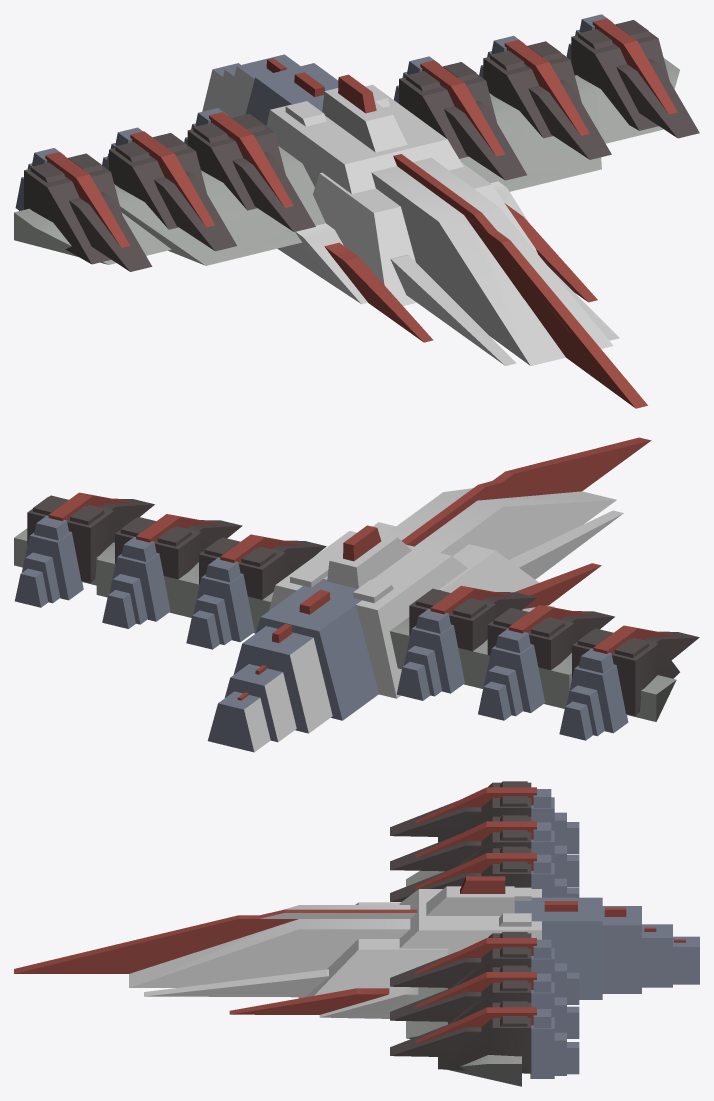
File: Ship_Speed.fbx
3 views of the same model, one above another, from view 1: azimuth 30°, elevation 25°; view 2: azimuth 150°, elevation 25°; view 3: azimuth 270°, elevation 25° (orthographic). The views are drawn at different scales.
Parts seen in each view (by area): view 1: pCube268; view 2: pCube268; view 3: pCube268.
Boxes of the visible parts, x1,y1,x2,y2 form: pCube268: (14, 14, 699, 408); pCube268: (14, 437, 699, 752); pCube268: (14, 781, 699, 1086).
Bounding box in the file's own units: 8.01 × 1.46 × 8.95.
